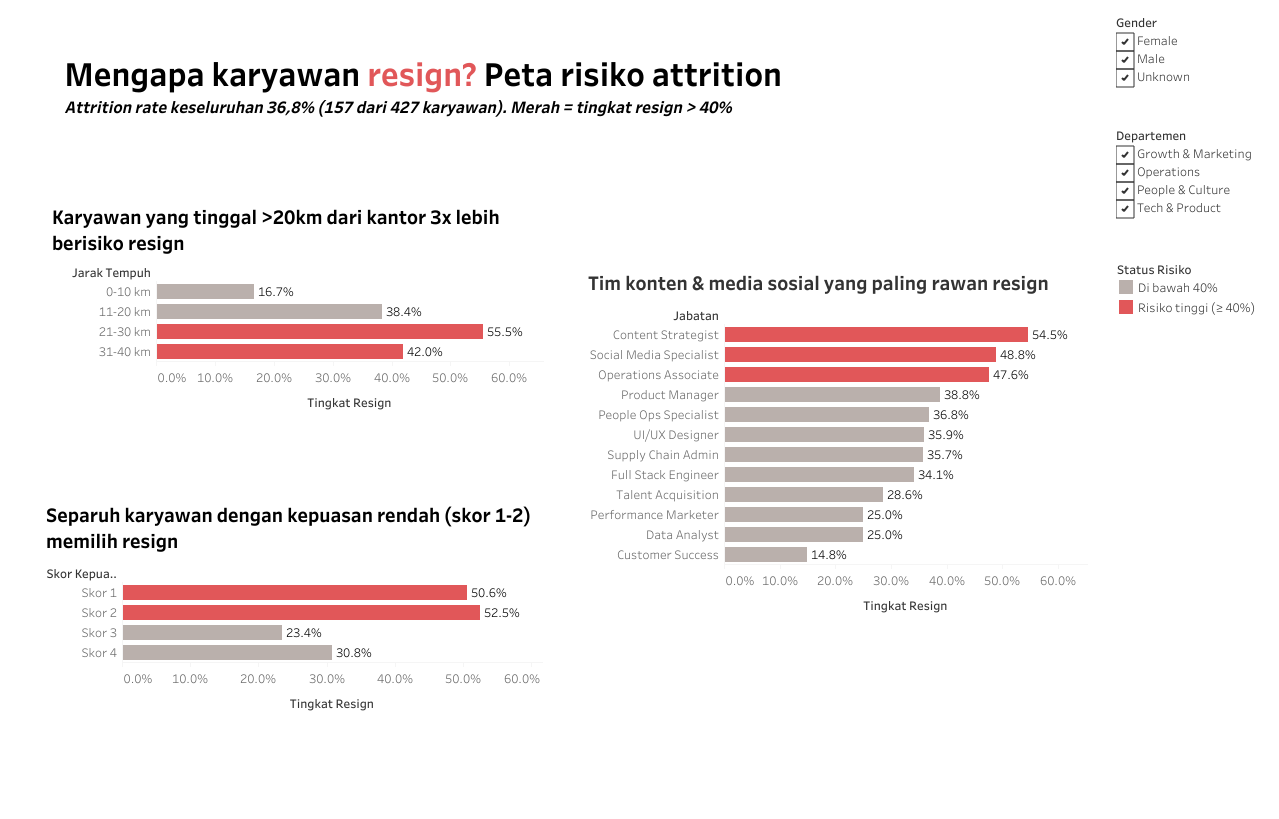

The page's visual inventory and layout, read from the dashboard file:
{"tool":"tableau","page":{"name":"HR Attrition Dashboard","canvas":[1280,820],"ordinal":0},"visuals":[{"type":"filter","title":"Jarak Tempuh","param":"[federated.0hr7attrition9vinix7week9].[none:gender:nk]","box":[1112,8,160,113]},{"type":"text","box":[62,42,1066,84]},{"type":"filter","title":"Jarak Tempuh","param":"[federated.0hr7attrition9vinix7week9].[none:department:nk]","box":[1112,121,160,133]},{"type":"worksheet","title":"Jarak Tempuh","mark":"Bar","rows":["commute_band"],"cols":["Calculation_9010000000000001"],"box":[48,197,495,273]},{"type":"legend","title":"Jarak Tempuh","param":"[federated.0hr7attrition9vinix7week9].[usr:Calculation_9010000000000002:nk]","box":[1112,254,160,67]},{"type":"worksheet","title":"Jabatan","mark":"Bar","rows":["job_title"],"cols":["Calculation_9010000000000001"],"box":[584,263,503,430]},{"type":"worksheet","title":"Kepuasan Kerja","mark":"Bar","rows":["satisfaction_label"],"cols":["Calculation_9010000000000001"],"box":[42,495,500,273]}]}

Visuals, with their boxes in screenshot pixels (x1, y1, x2, y2), scaled from the page's 1280x820 canvas onto the 1279x819 screenshot:
"Jarak Tempuh" filter: left=1111, top=8, right=1271, bottom=121
text: left=62, top=42, right=1127, bottom=126
"Jarak Tempuh" filter: left=1111, top=121, right=1271, bottom=254
"Jarak Tempuh" worksheet (Bar marks): left=48, top=197, right=543, bottom=469
"Jarak Tempuh" legend: left=1111, top=254, right=1271, bottom=321
"Jabatan" worksheet (Bar marks): left=584, top=263, right=1086, bottom=692
"Kepuasan Kerja" worksheet (Bar marks): left=42, top=494, right=542, bottom=767
